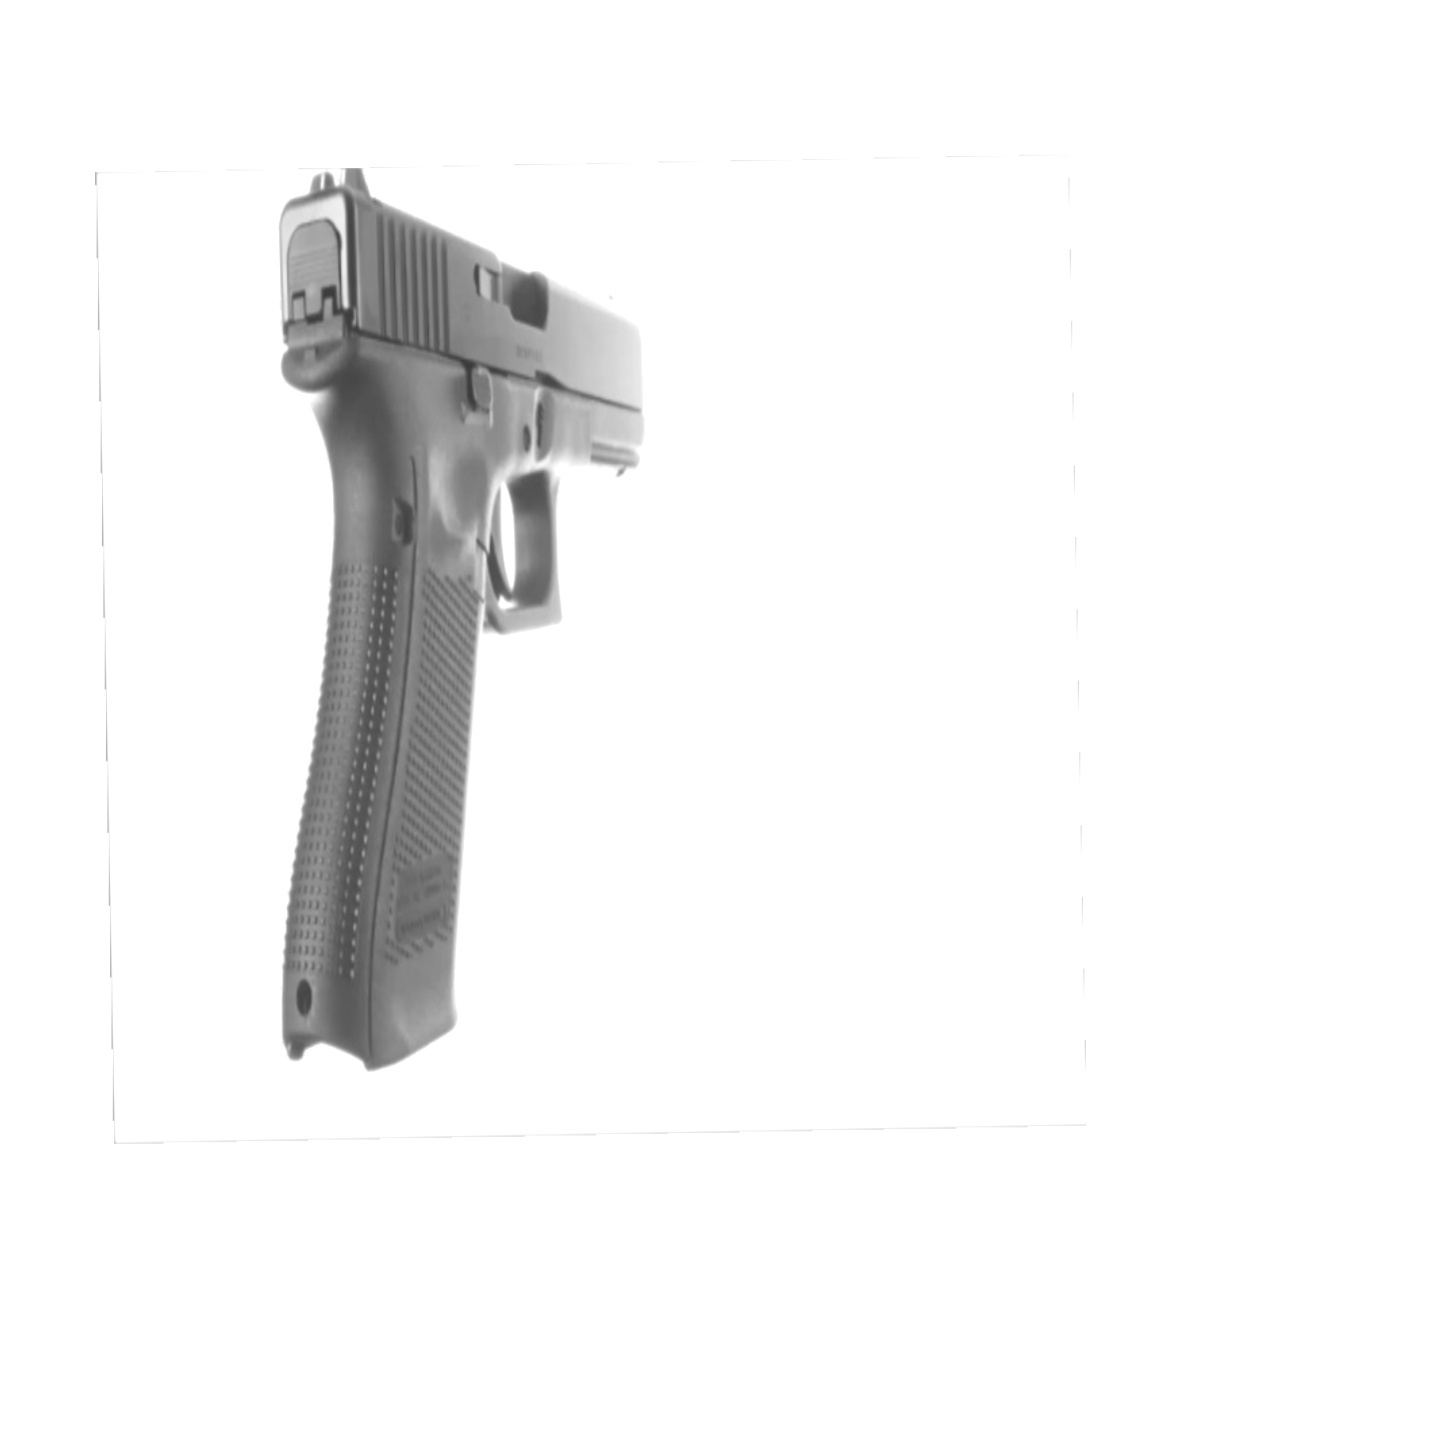gun: (258, 161, 658, 1073)
